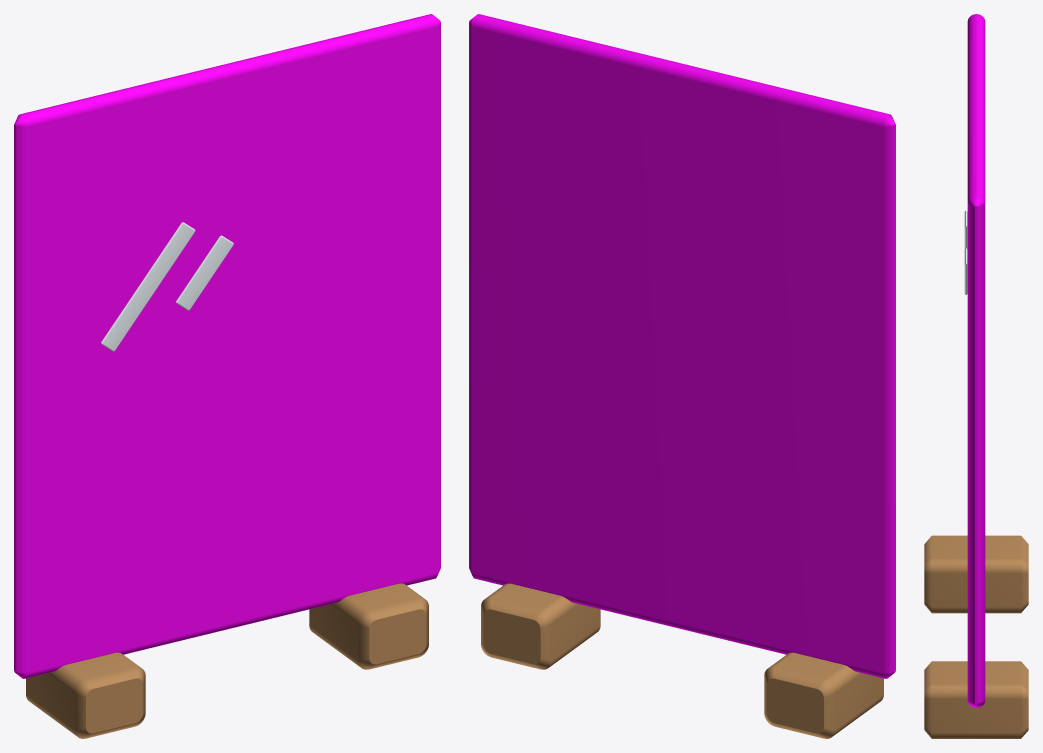
Rendered from objet_vitre.glb.
The picture shows the model from 3 angles, left to right: view 1: azimuth 30°, elevation 25°; view 2: azimuth 150°, elevation 25°; view 3: azimuth 270°, elevation 25°; orthographic projection. The views are drawn at different scales.
Visible parts, largest first — view 1: vitre_teinte.004, vitre_bois_cale.004, vitre_reflet.004; view 2: vitre_teinte.004, vitre_bois_cale.004; view 3: vitre_bois_cale.004, vitre_teinte.004, vitre_reflet.004.
Part boxes in pixels (x1=…): vitre_teinte.004: x1=14, y1=14, x2=440, y2=678; vitre_bois_cale.004: x1=26, y1=583, x2=428, y2=738; vitre_reflet.004: x1=101, y1=222, x2=233, y2=351; vitre_teinte.004: x1=469, y1=14, x2=895, y2=678; vitre_bois_cale.004: x1=481, y1=583, x2=883, y2=738; vitre_bois_cale.004: x1=924, y1=535, x2=1028, y2=738; vitre_teinte.004: x1=967, y1=14, x2=985, y2=707; vitre_reflet.004: x1=964, y1=210, x2=967, y2=294.
Bounding box in the file's own units: 0.3 × 0.415 × 0.07.
